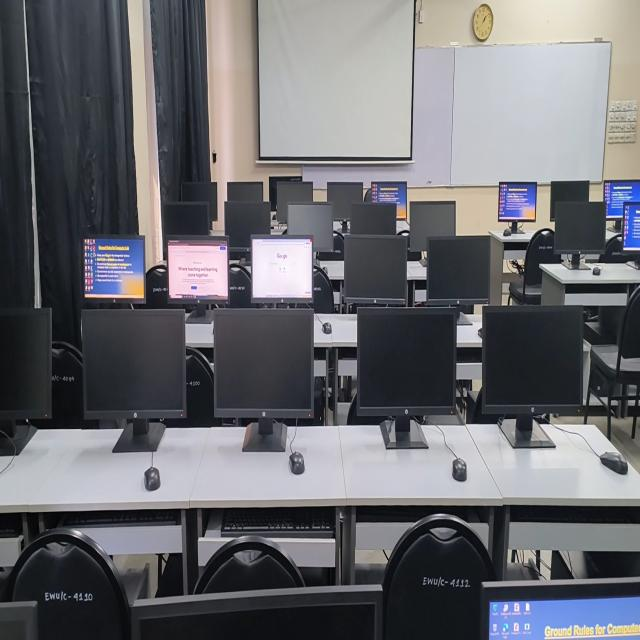Chair: (382, 514, 495, 639), (7, 528, 132, 639), (588, 286, 640, 439), (204, 549, 297, 593), (168, 349, 221, 426), (509, 228, 561, 304), (146, 264, 184, 308), (312, 265, 334, 313), (229, 265, 251, 306)
Keyboard: (220, 508, 334, 538)
Monitor: (348, 308, 457, 449), (82, 309, 186, 452), (480, 306, 584, 447), (214, 309, 314, 452), (131, 585, 381, 639), (480, 577, 640, 639), (0, 308, 52, 419), (342, 234, 407, 312), (426, 237, 490, 312), (84, 236, 145, 303), (168, 236, 228, 303), (252, 237, 312, 301), (554, 202, 606, 255), (409, 201, 456, 251), (287, 202, 333, 251), (225, 200, 270, 248), (163, 202, 209, 247), (498, 182, 536, 232), (276, 178, 313, 223), (550, 180, 590, 221), (182, 183, 217, 229), (350, 202, 396, 235), (0, 601, 38, 639), (603, 180, 640, 219), (327, 182, 363, 221), (371, 181, 407, 219), (269, 177, 302, 211), (622, 202, 640, 252), (227, 181, 263, 201)
Mouse: (600, 452, 628, 475), (144, 466, 160, 491), (289, 452, 304, 474), (452, 458, 466, 481), (592, 265, 602, 275), (322, 322, 331, 333), (503, 228, 511, 236)
